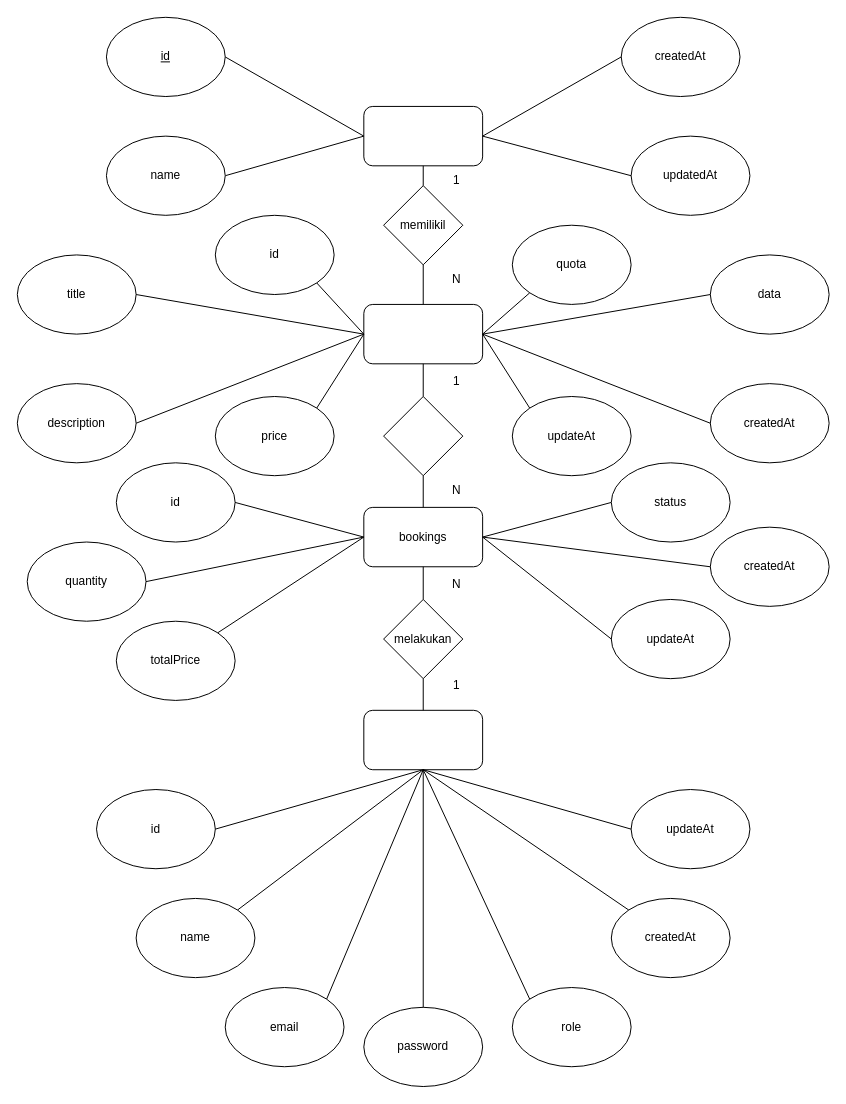
Some shapes in this 846 by 1104 pixel diagram are drawn without their labels. Here are the shapes that lost their labels. From the top down, the centre of each, then its label:
At point (423, 135): "categories".
At point (423, 333): "events".
At point (423, 436): "dipesan".
At point (423, 739): "users".
